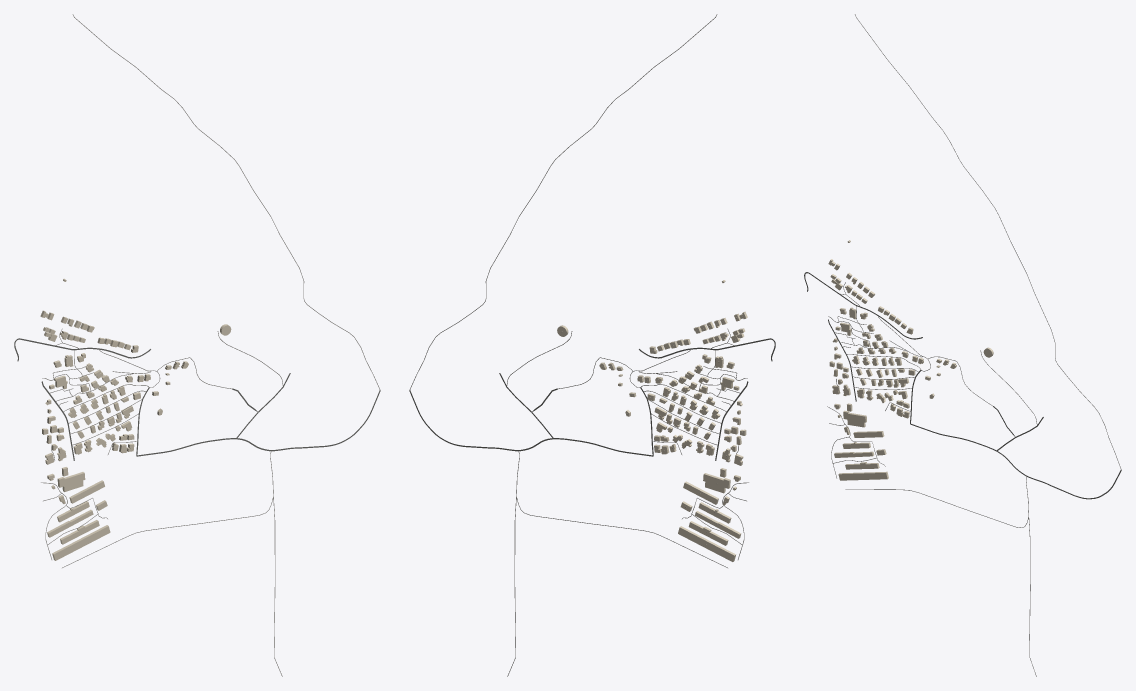
The model's file is historic-palestine-12_31_3540_3255.glb.
3 renders of one model, left to right at view 1: azimuth 30°, elevation 25°; view 2: azimuth 150°, elevation 25°; view 3: azimuth 330°, elevation 25°, orthographic. The views are drawn at different scales.
Visible parts, largest first — view 1: Building_.028, Road .010; view 2: Building_.028, Road .010; view 3: Road .010.
Part boxes in pixels (box(x1,y1,x2,y2)): Building_.028: box(52, 525, 110, 560); Road .010: box(72, 14, 380, 389); Building_.028: box(678, 526, 735, 561); Road .010: box(409, 14, 717, 389); Road .010: box(855, 14, 1121, 469).
Size of the model in its own units: 979 by 1821 by 8.7.
